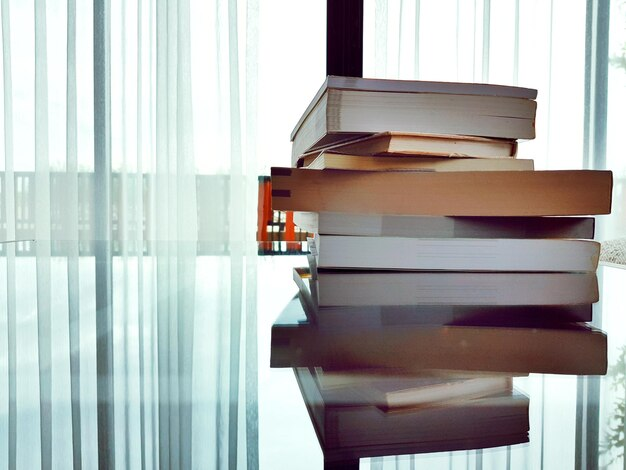not a gesture sign: (272, 167, 612, 216)
